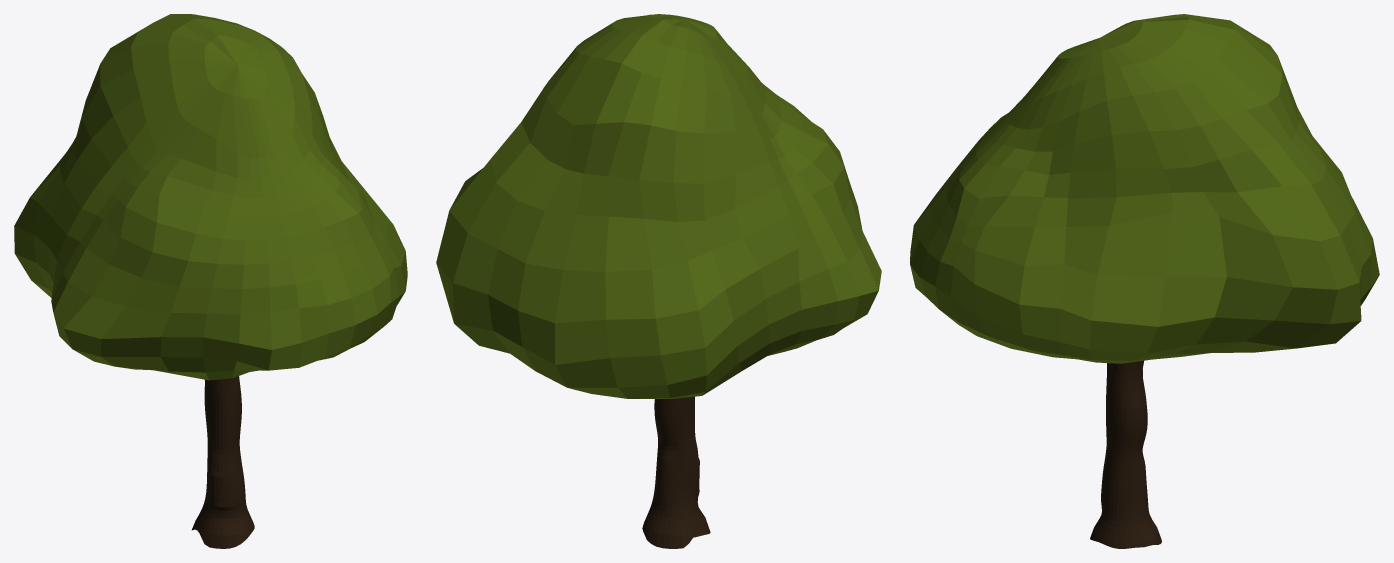
Rendered from Tree1.fbx.
3 renders of one model, left to right at view 1: azimuth 30°, elevation 25°; view 2: azimuth 150°, elevation 25°; view 3: azimuth 270°, elevation 25°, orthographic. The views are drawn at different scales.
Visible parts, largest first — view 1: Tree1_LOD0; view 2: Tree1_LOD0; view 3: Tree1_LOD0.
Part boxes in pixels (x1,y1,x2,y2): Tree1_LOD0: (14, 14, 407, 548); Tree1_LOD0: (436, 14, 881, 548); Tree1_LOD0: (910, 14, 1379, 548).
Size of what is drawn, in the model's own units: 915 by 1277 by 1040.
